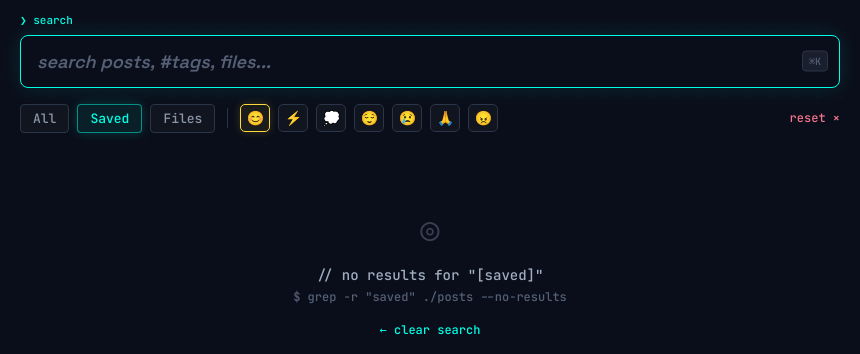
SearchPage (T-351 rewrite, FR-12.8-.12) › T-351.7 clear filters: reset button visible khi filter active, click → clear all
What coordinates should you click on to do the following:
click the button with test id "search-reset-filters"
I would click on:
 (815, 118)
Its box is [790,110,840,127].
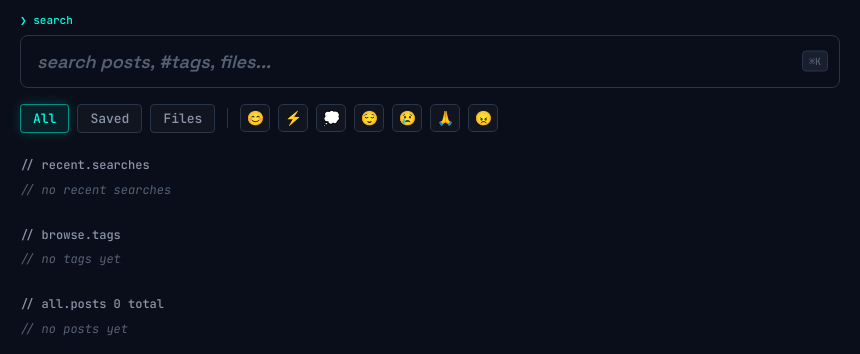
expect the button with test id "search-reset-filters" is gone: met
expect the element with test id "search-empty-state" is shown: met, box [20,157,171,337]
